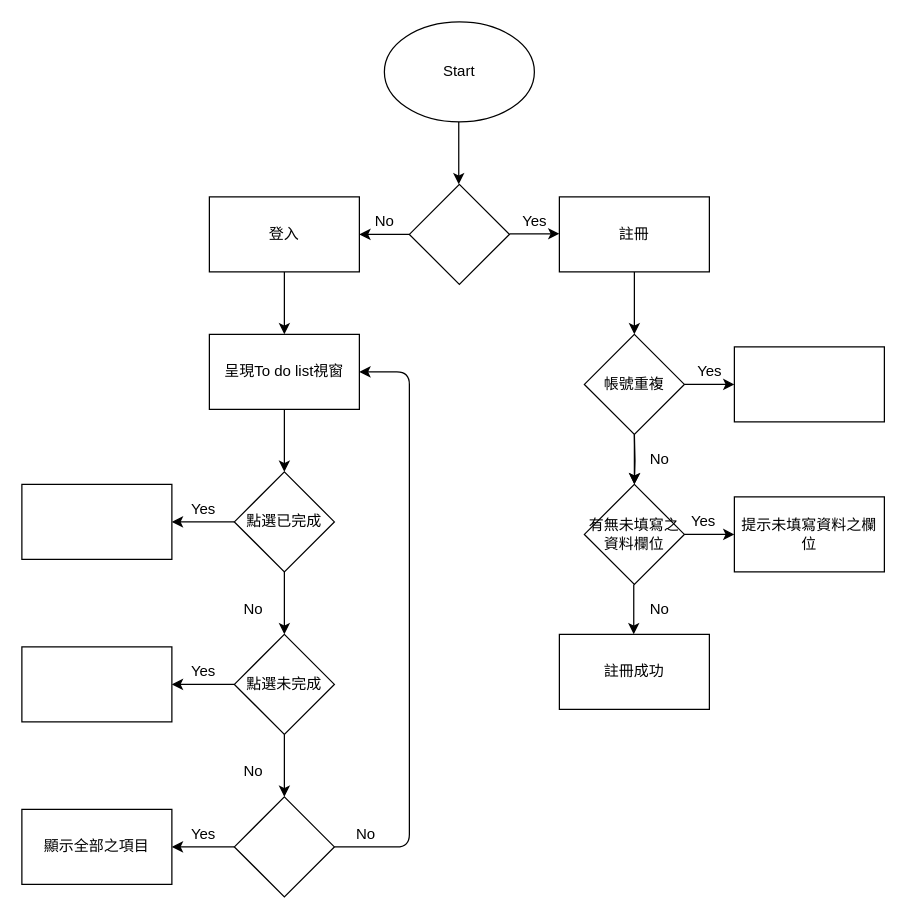
This 906x919 diagram has some shape labels left out. Each missing label, with the centre of its shape:
New User: point 458,233
提示請重新命名: point 808,384
顯示已完成之項目: point 96,521
顯示未完成之項目: point 96,684
點選全部: point 283,846
